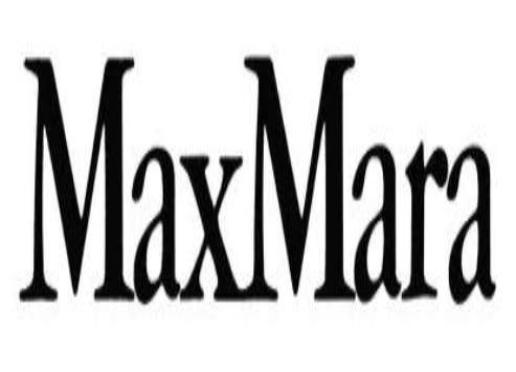MAX-MARA: (20, 56, 502, 308)
